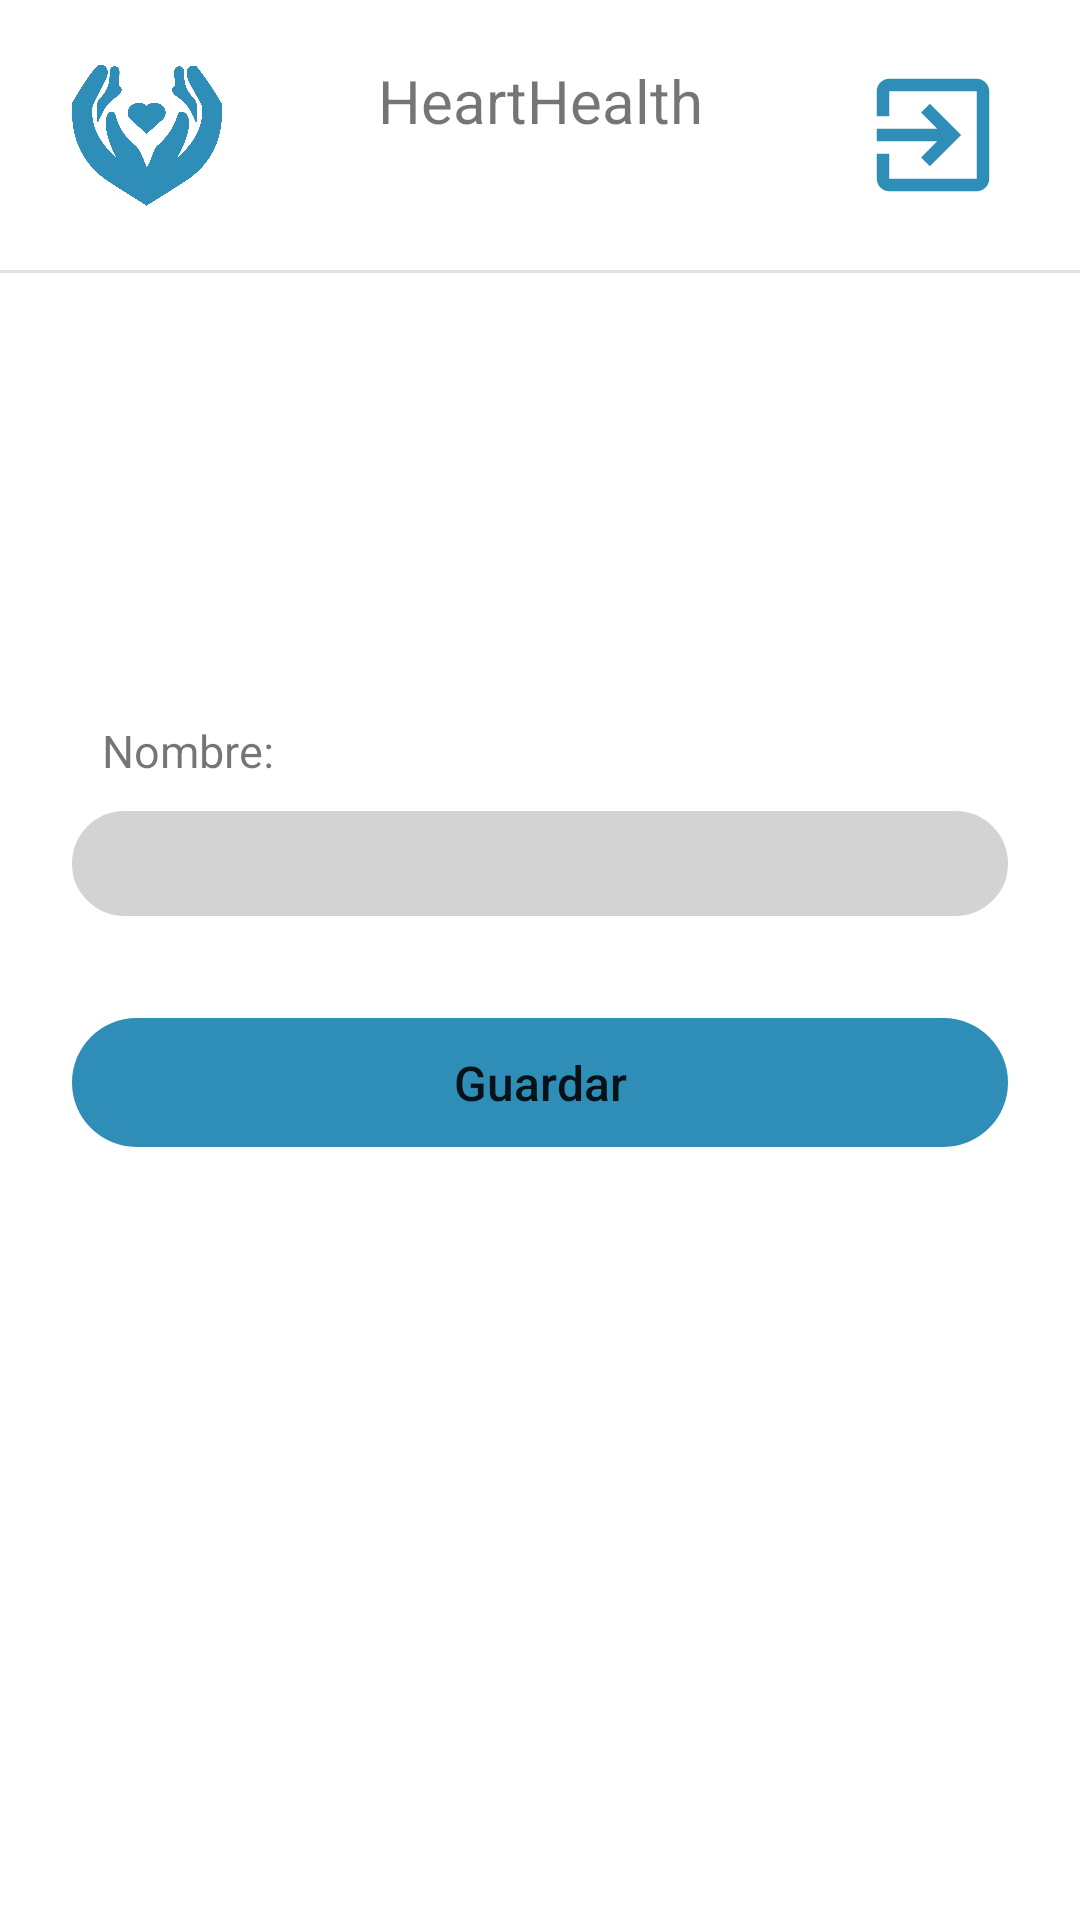

Screen size 1080×1920. Icon name, then its center in pixels as [x,y]:
exit to app: [933,135]
